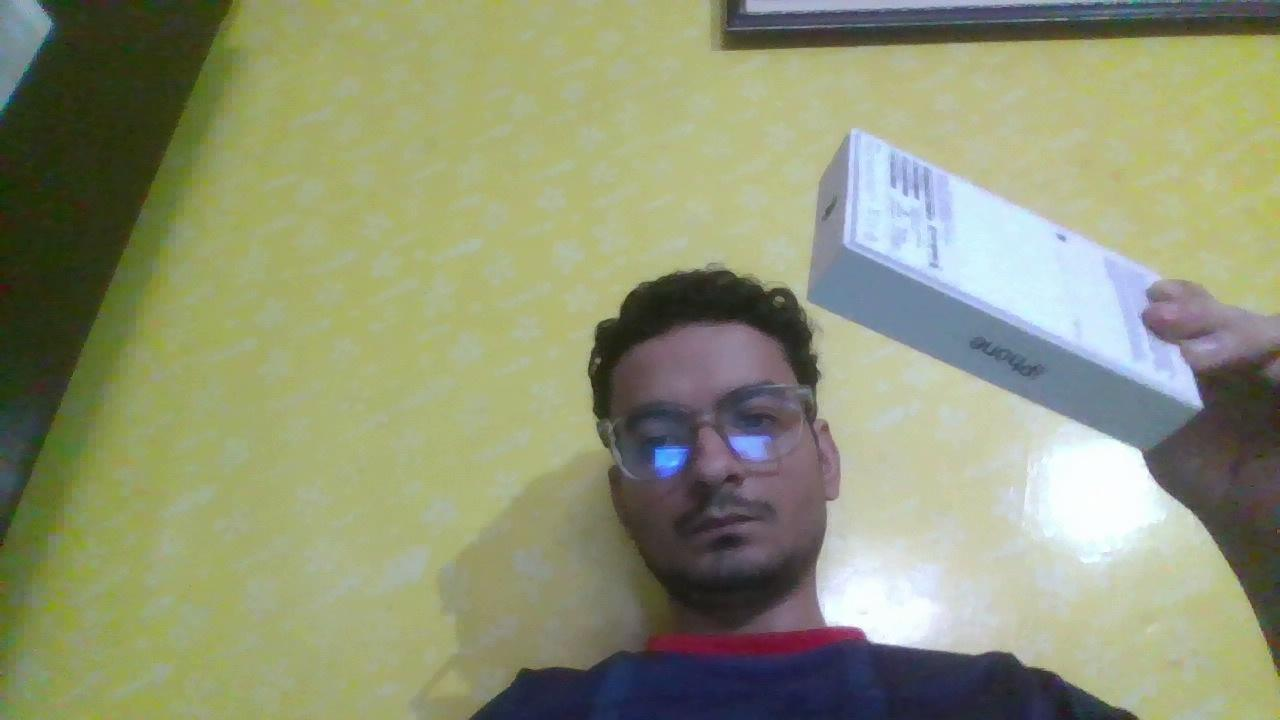Phone: (788, 129, 1216, 454)
